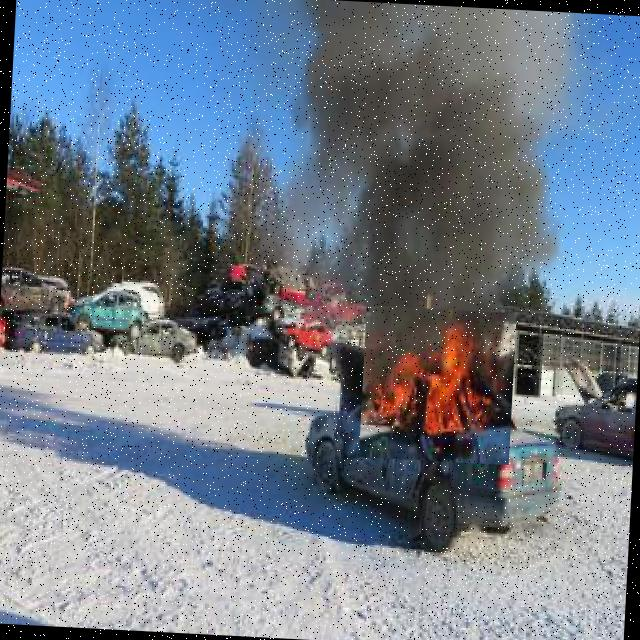fire: (358, 306, 516, 466)
